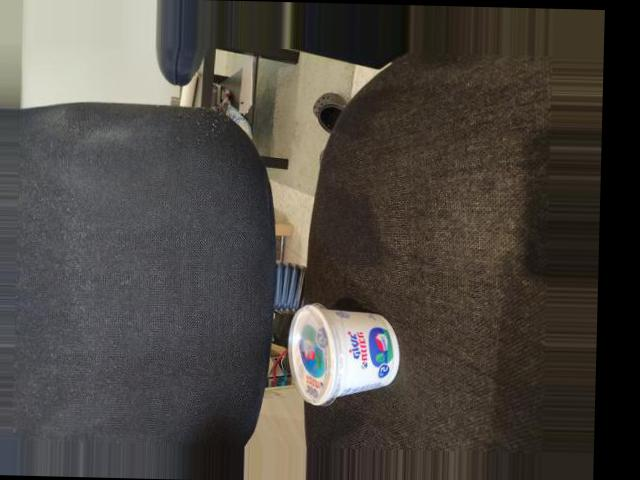cotage: (285, 298, 405, 408)
